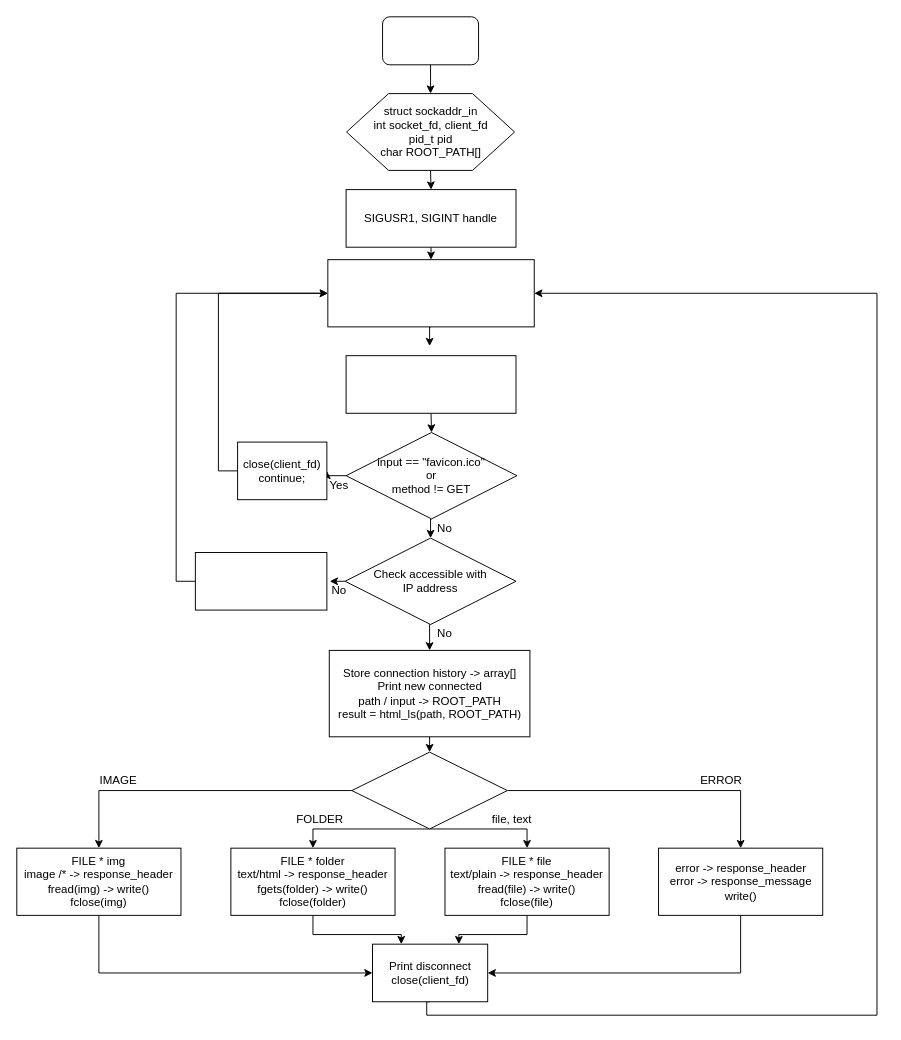
This 901x1040 diagram has some shape labels left out. The centre of each missing label's shape, as x and y in pixels:
"chdir(ROOT_PATH) client_fd = accept()" belongs at point (430, 293).
"read(client_fd, buf, BUFSIZE) strtok(buf) -> input" belongs at point (430, 384).
"send denied message close(client_fd) continue;" belongs at point (260, 581).
"Start" belongs at point (430, 40).
"what is result ?" belongs at point (429, 790).
